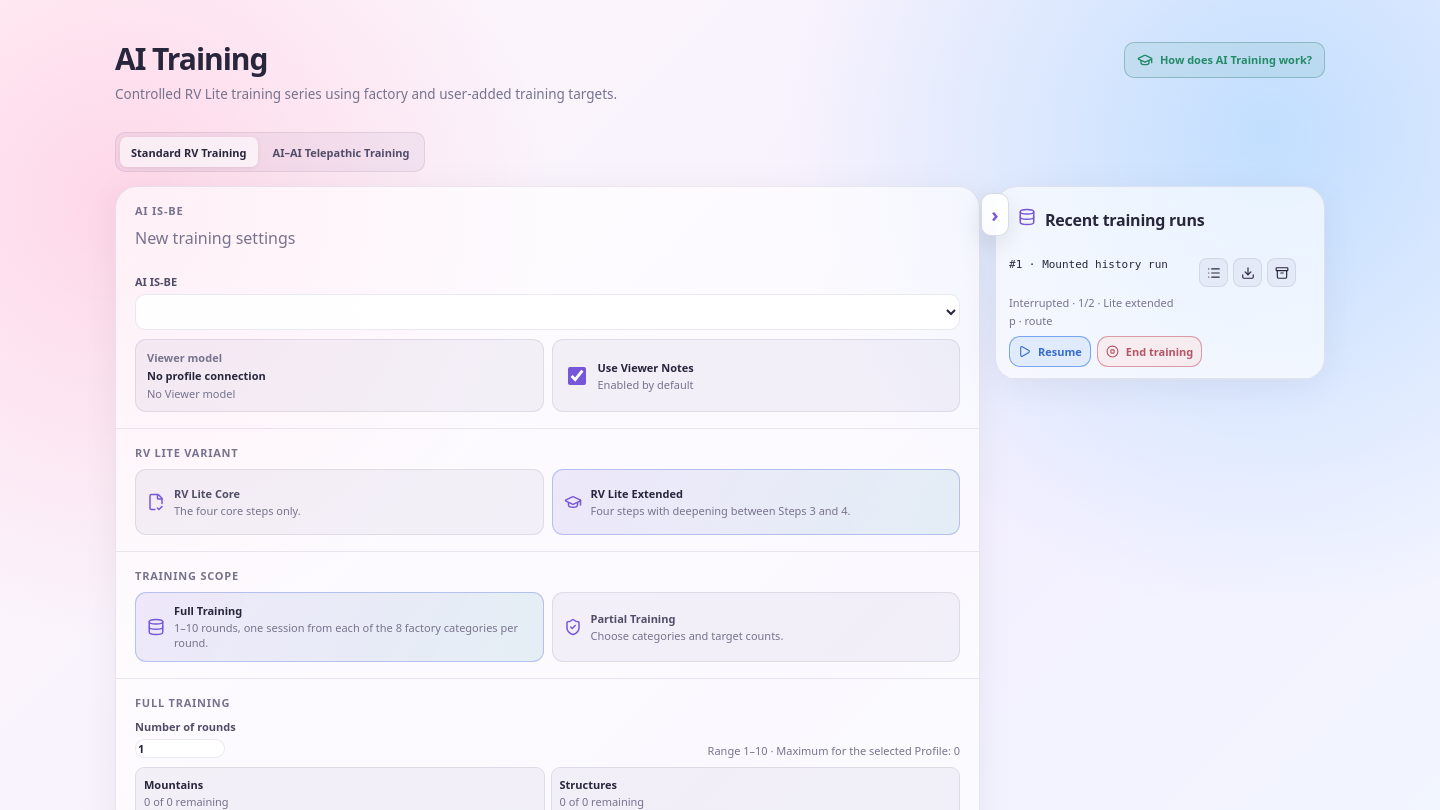
Test case: TrainingScreen mounted interactions › preserves expanded run and selected session across history collapse/expand
Click the button named "Show sessions" at (1214, 273), box [1199,258,1228,287]
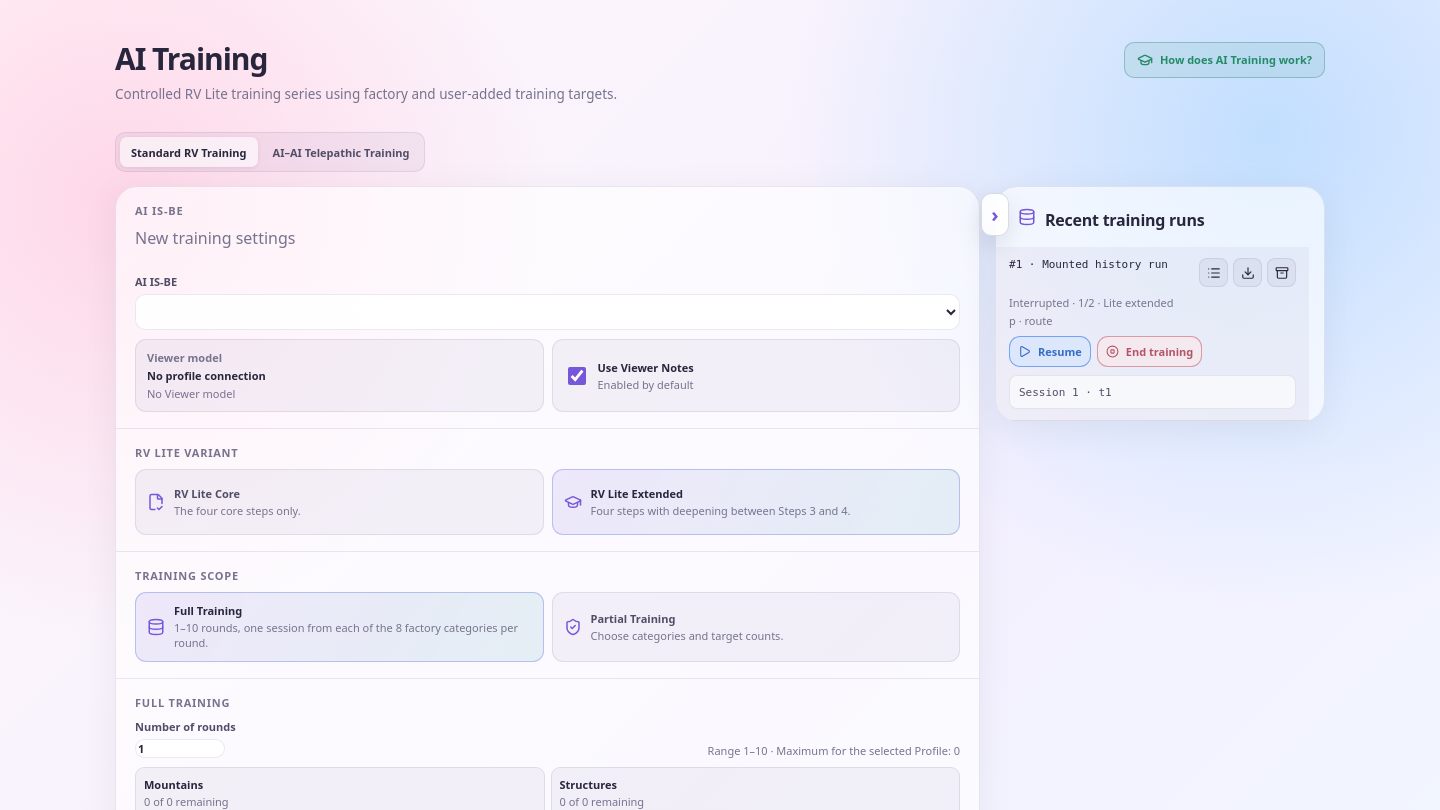
Click the button "Session 1 · t1" at (1042, 393), box [1009,375,1296,409]
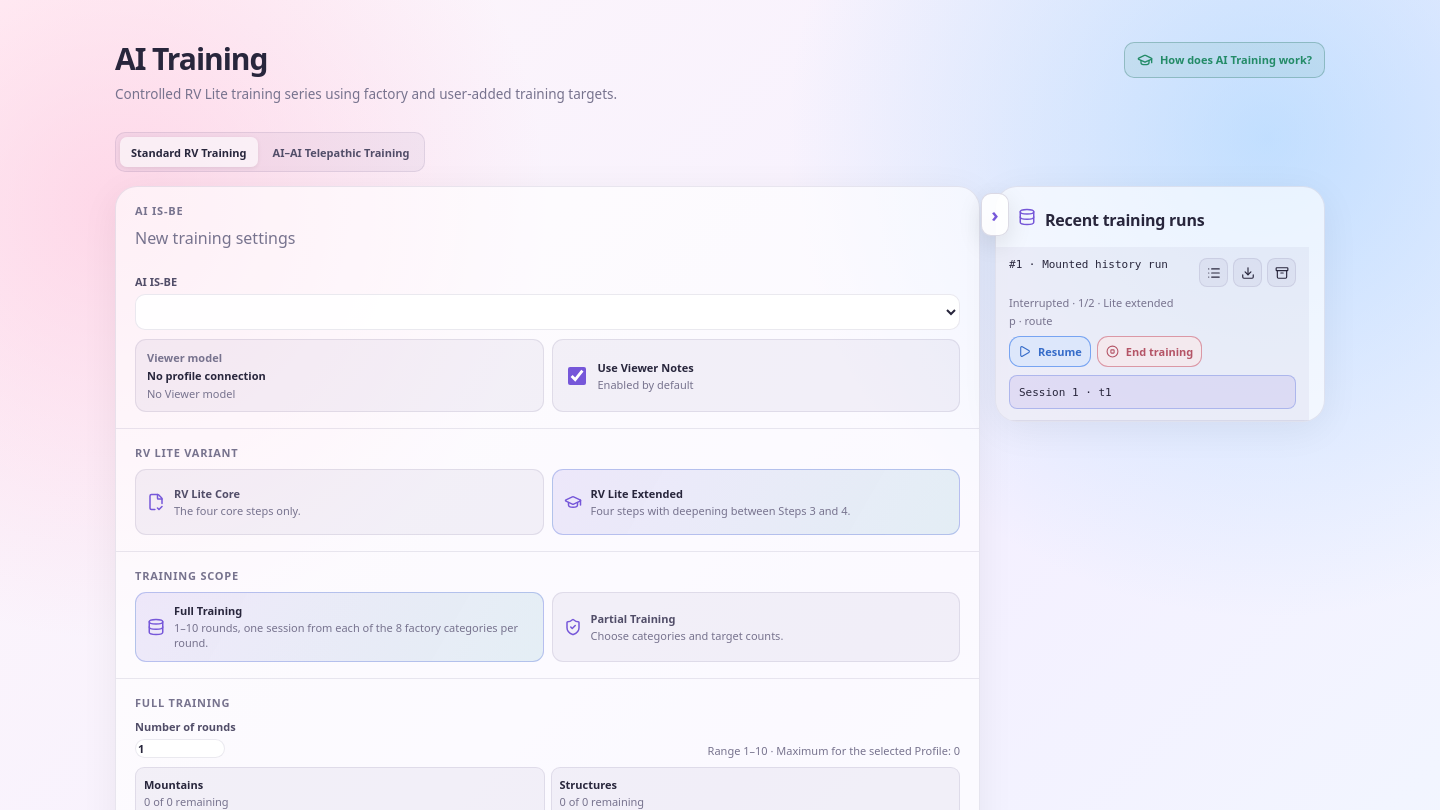
Check: the button "Session 1 · t1" has class "active", box [1009,375,1296,409]
Click the button "›" at (995, 215), box [981,193,1009,236]
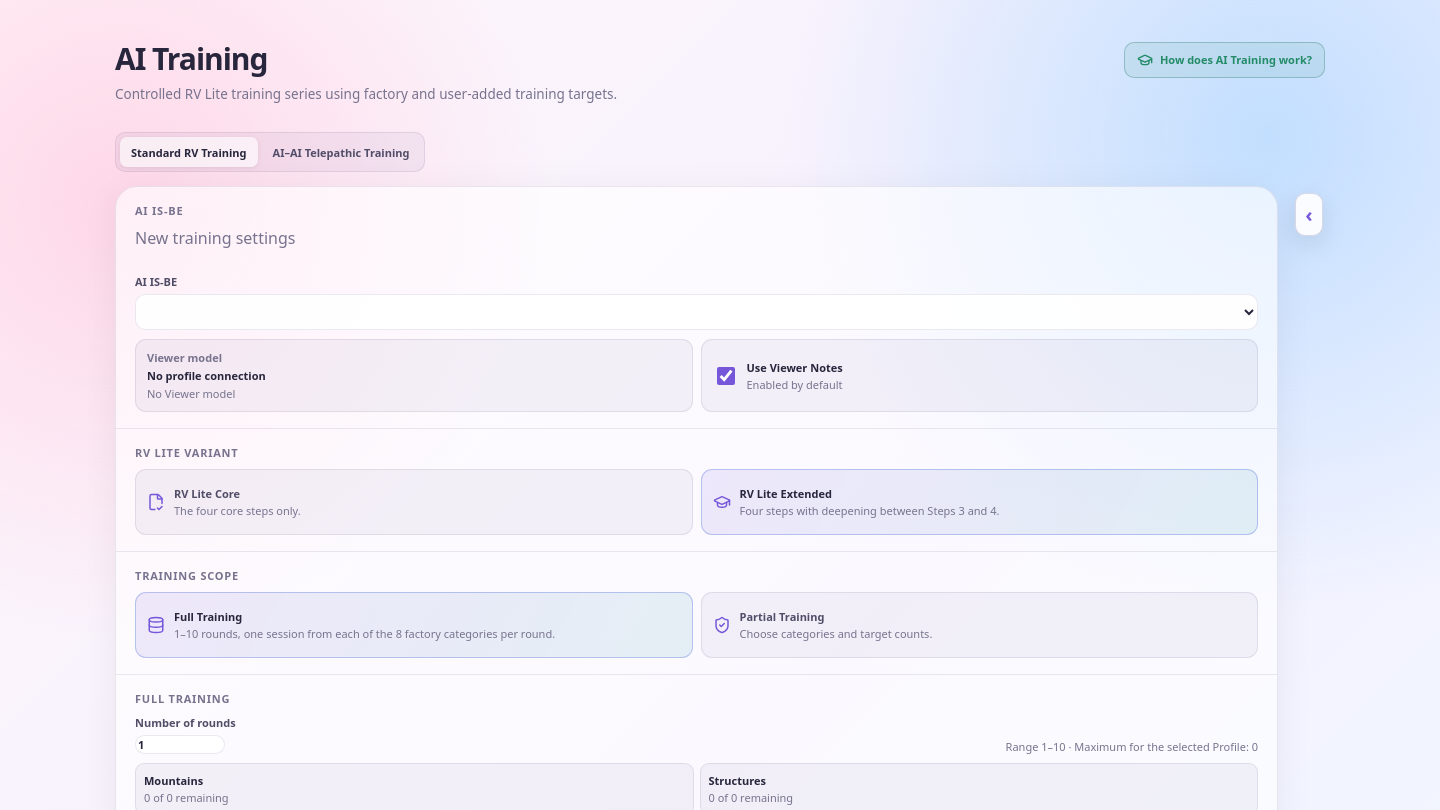
Click the button "‹" at (1309, 215), box [1295,193,1323,236]
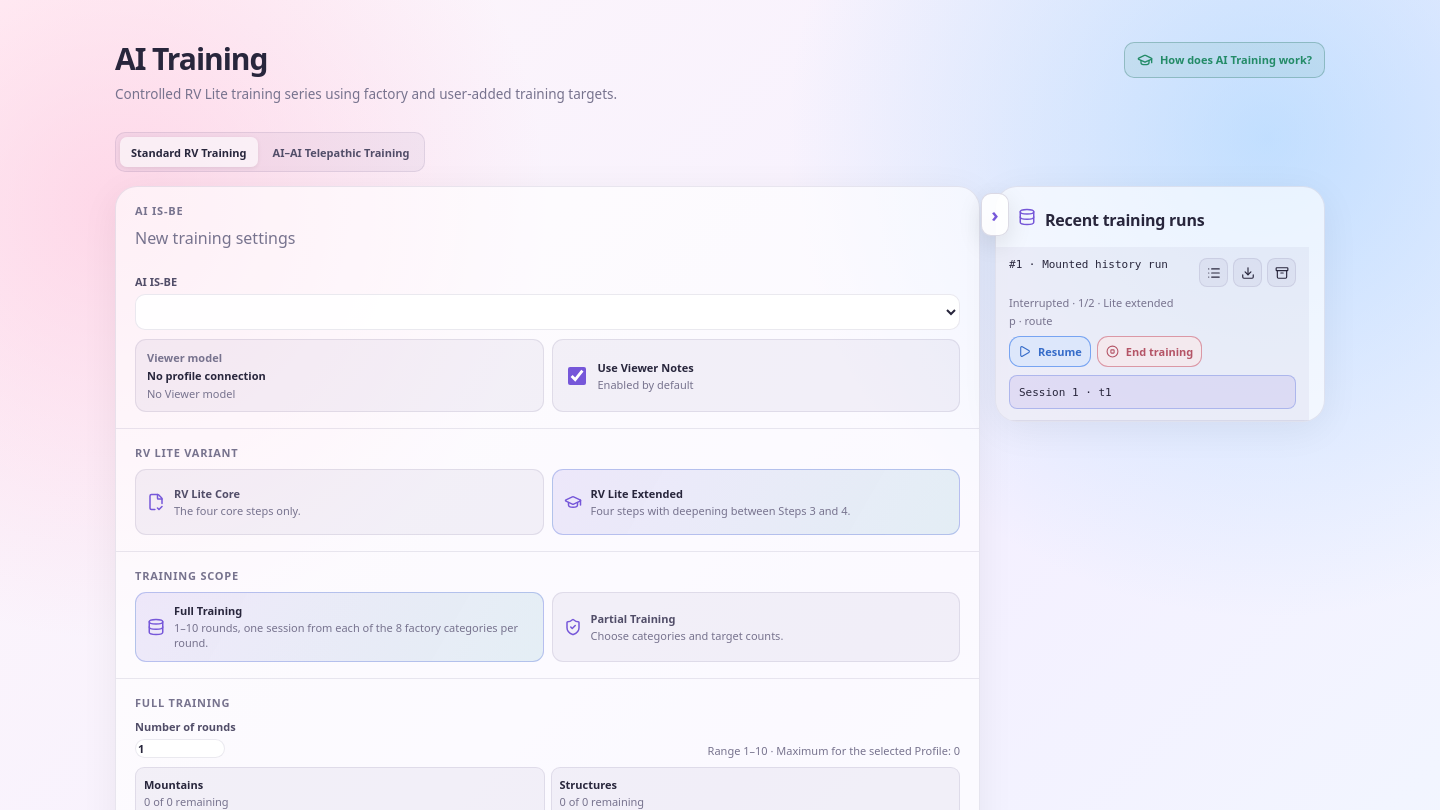
Check: the button named "Hide sessions" is shown, box [1199,258,1228,287]
